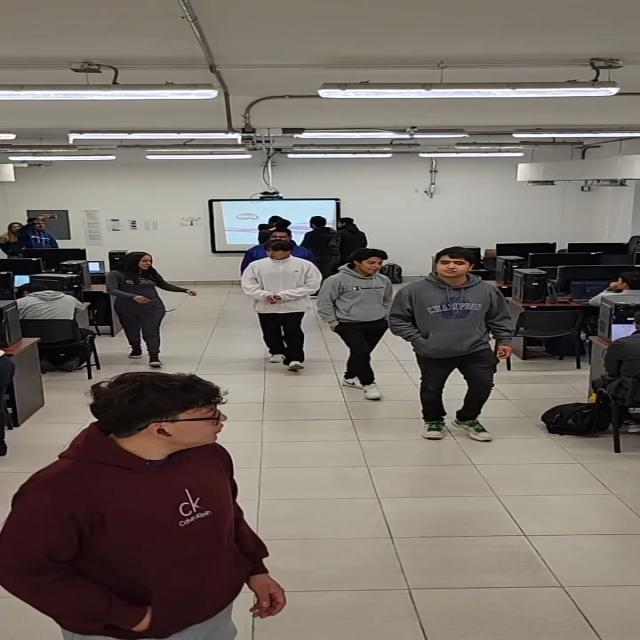Persona: (0, 371, 288, 640), (387, 247, 517, 443), (317, 247, 397, 401), (238, 239, 324, 372), (104, 251, 198, 367), (240, 227, 314, 264), (305, 217, 342, 262), (335, 216, 373, 252), (253, 215, 294, 239)
